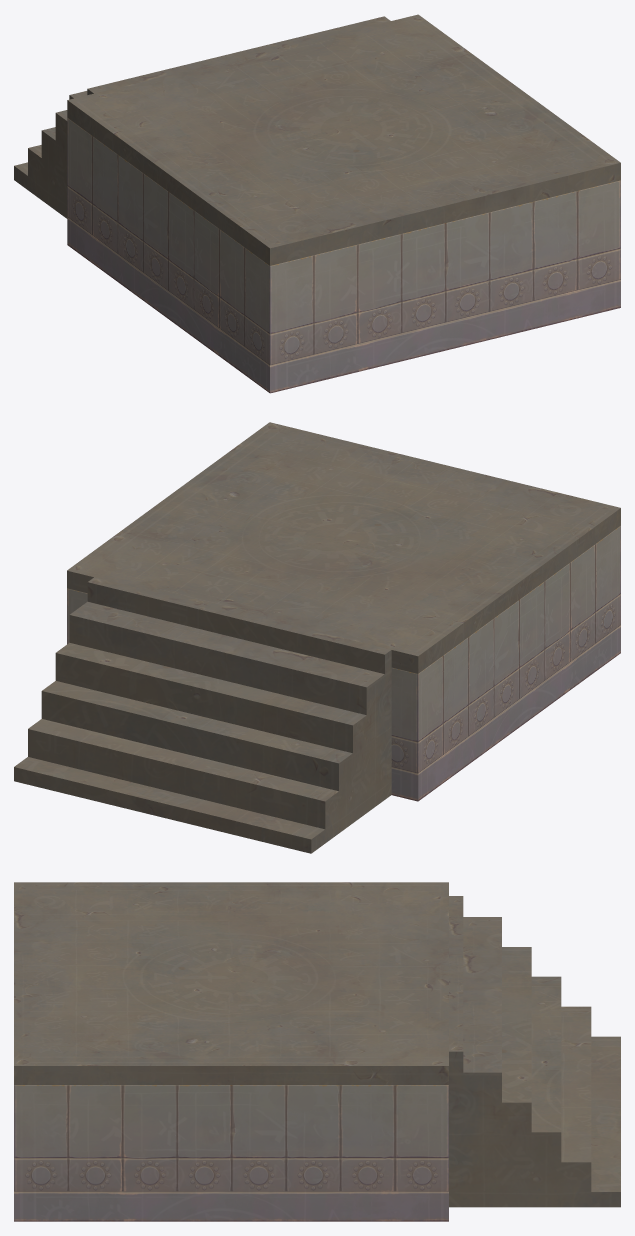
The model's file is Build_Platform_Rock.fbx.
The picture shows the model from 3 angles, top to bottom: view 1: azimuth 30°, elevation 25°; view 2: azimuth 150°, elevation 25°; view 3: azimuth 270°, elevation 25°; orthographic projection. The views are drawn at different scales.
Visible parts, largest first — view 1: Build_Platform_Rock; view 2: Build_Platform_Rock; view 3: Build_Platform_Rock.
Part boxes in pixels (x1,y1,x2,y2): Build_Platform_Rock: (14,14,620,393); Build_Platform_Rock: (14,422,620,853); Build_Platform_Rock: (14,882,620,1221).
Size of what is drawn, in the model's own units: 400 by 158 by 558.
